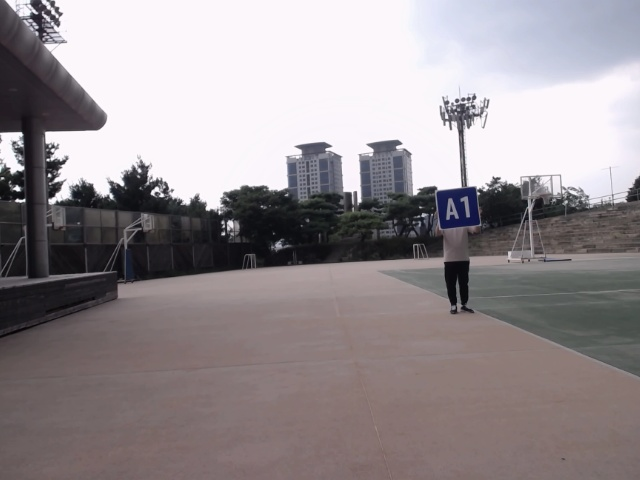delivery_a1: (436, 186, 481, 229)
